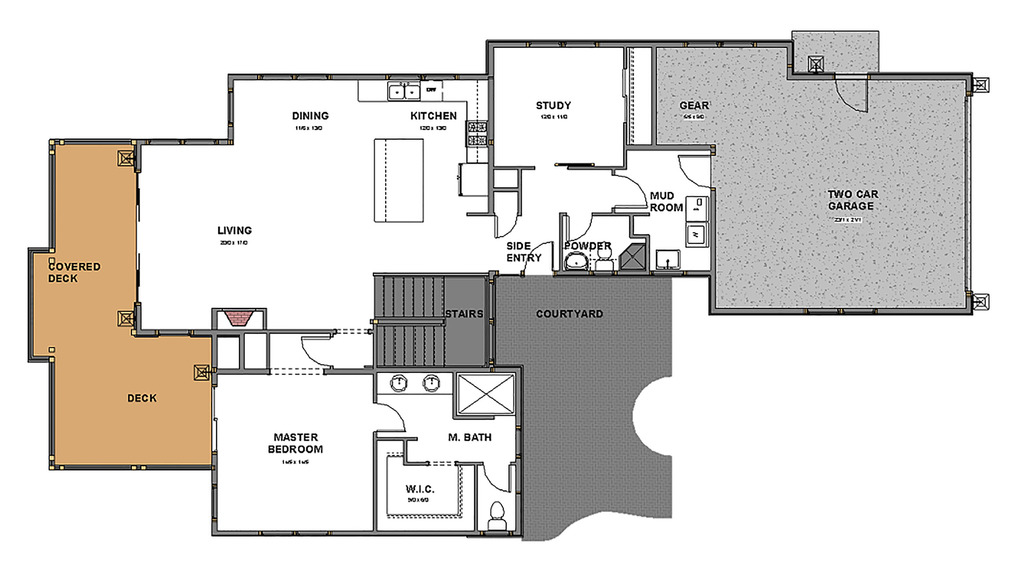door: (608, 164, 654, 209), (671, 145, 718, 187), (834, 73, 871, 120), (297, 326, 336, 368), (476, 462, 517, 500), (513, 239, 554, 277), (366, 400, 403, 433), (488, 204, 520, 241), (562, 214, 592, 242)
large_sink: (471, 499, 511, 530), (588, 238, 621, 274)
sink: (653, 236, 689, 270)
small_sink: (377, 364, 455, 396), (562, 246, 594, 270)
stairs: (373, 272, 499, 368)
twin_sink: (386, 80, 433, 103)
